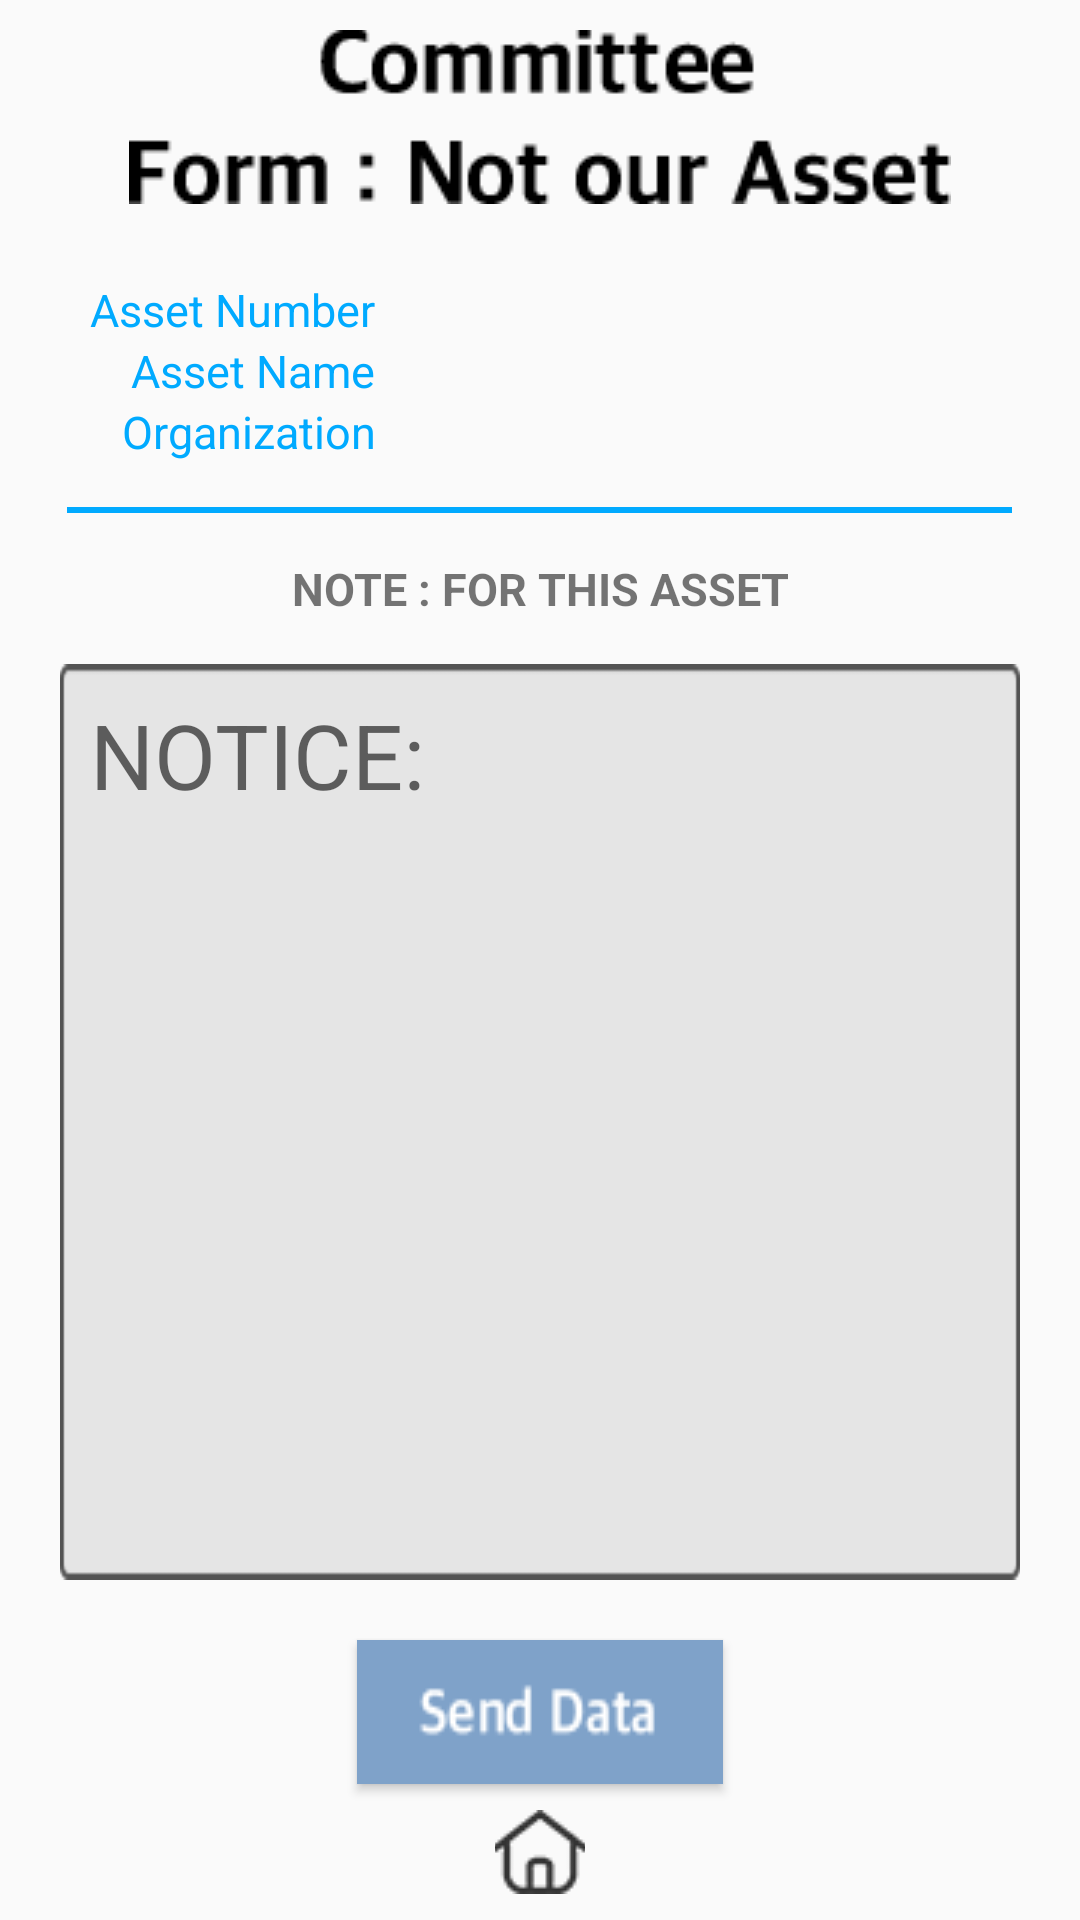

Screen size 1080px×1920px. Icon name, then its center in pixels as (x,y):
home: (540,1852)
